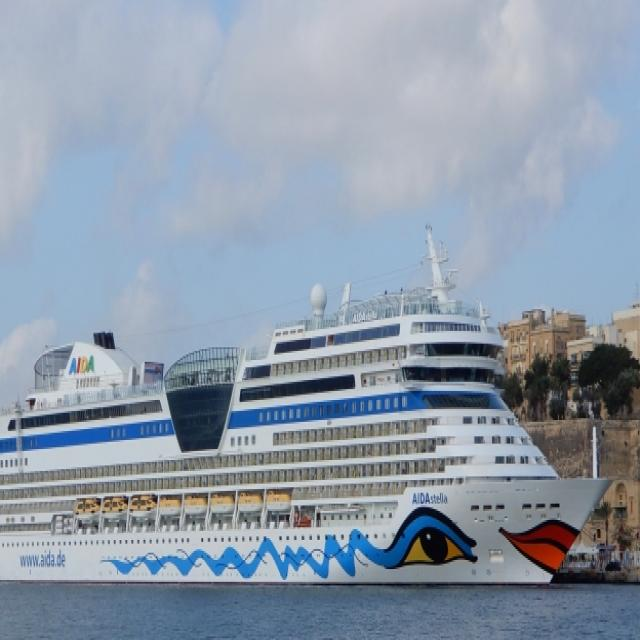cruises: (1, 217, 614, 600)
